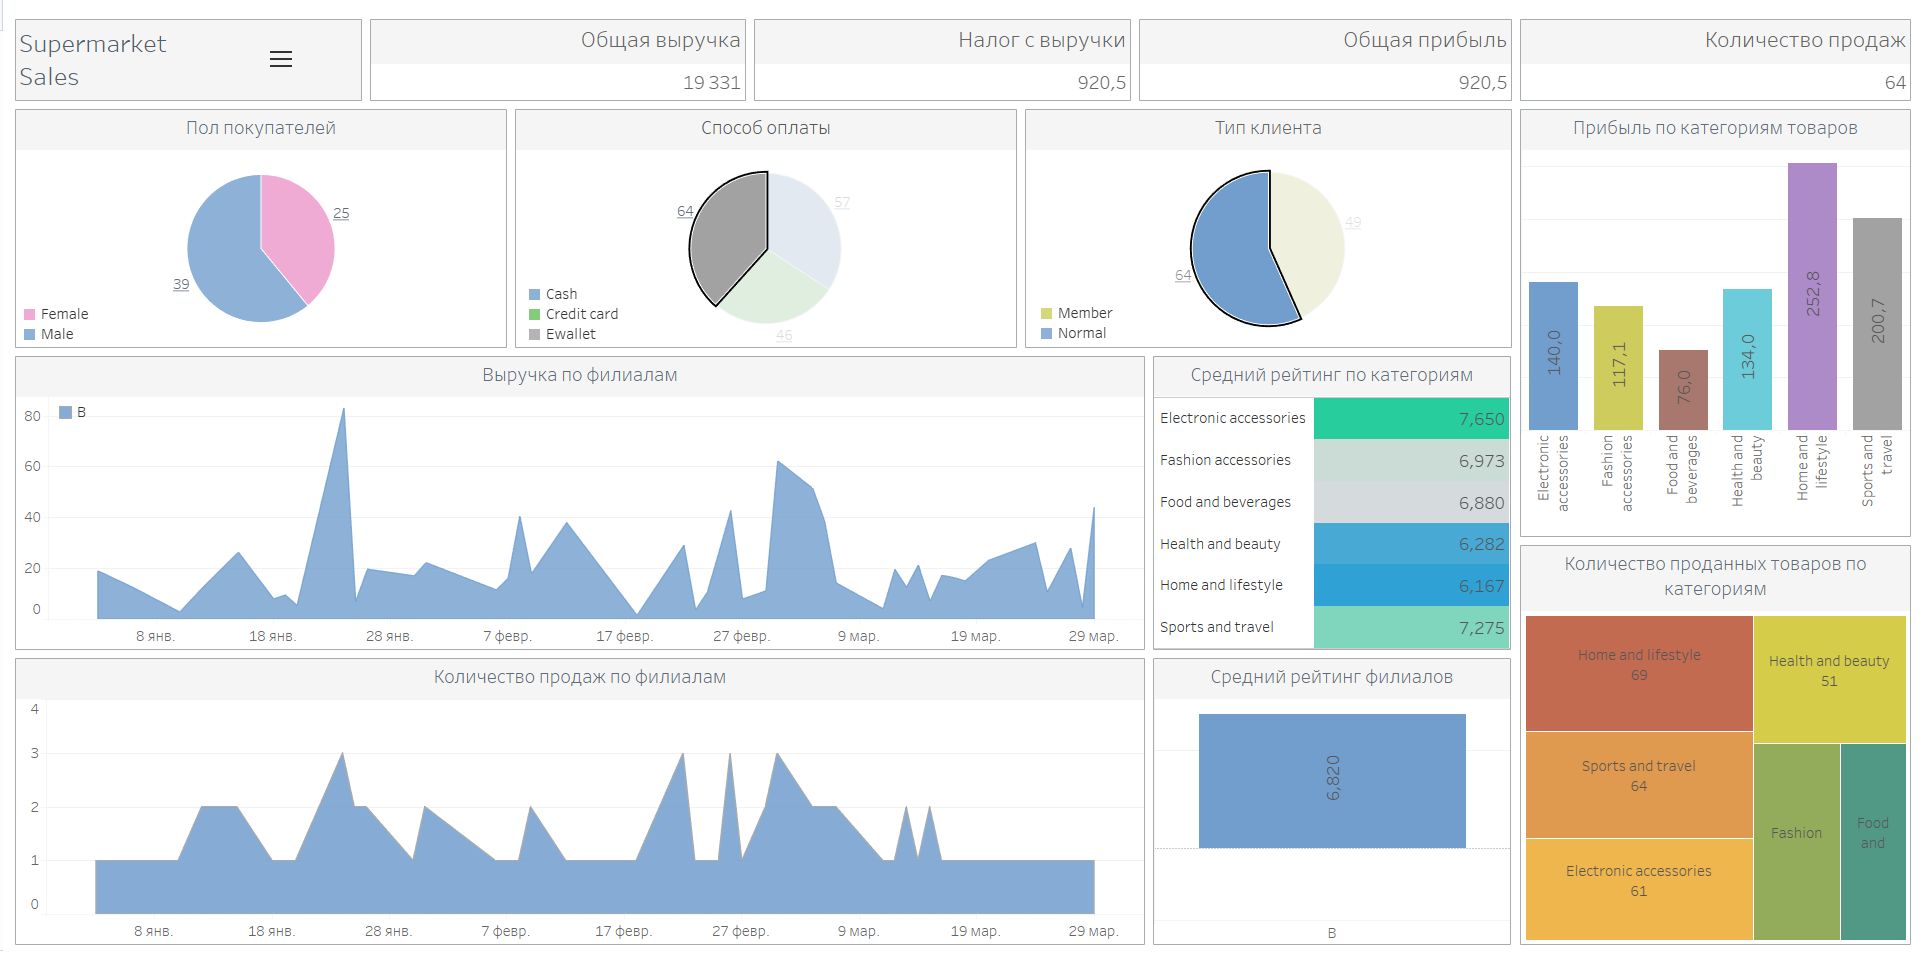

This screenshot's page, from the dashboard's own definition file:
{"tool":"tableau","page":{"name":"Overview","canvas":[1920,950],"ordinal":0},"visuals":[{"type":"text","box":[8,8,354.9,90.2]},{"type":"worksheet","title":"TR","mark":"Automatic","box":[362.9,8,384,90.2]},{"type":"worksheet","title":"TT","mark":"Automatic","box":[746.9,8,385,90.2]},{"type":"worksheet","title":"TP","mark":"Automatic","box":[1131.9,8,381,90.2]},{"type":"worksheet","title":"SC","mark":"Automatic","box":[1512.8,8,399.1,90.2]},{"type":"dashboard-object","box":[264,40,29,24]},{"type":"filter","title":"CQ","param":"[federated.0vq5nop1hpev0k14x6lz30j02jub].[tdy:date:qk]","box":[300,44,223,51]},{"type":"filter","title":"CQ","param":"[federated.0vq5nop1hpev0k14x6lz30j02jub].[none:name (branches):nk]","box":[300,95,223,102]},{"type":"worksheet","title":"G","mark":"Pie","box":[8,98.2,499.8,246.5]},{"type":"worksheet","title":"PM","mark":"Pie","box":[507.8,98.2,510,246.5]},{"type":"worksheet","title":"CT","mark":"Pie","box":[1017.8,98.2,495,246.5]},{"type":"worksheet","title":"CP","mark":"Automatic","rows":["gross_income"],"cols":["name (product_lines)"],"box":[1512.8,98.2,399.1,435.7]},{"type":"legend","title":"PM","param":"[federated.0vq5nop1hpev0k14x6lz30j02jub].[none:name (payment_methods):nk]","box":[521,277,127,62]},{"type":"legend","title":"CT","param":"[federated.0vq5nop1hpev0k14x6lz30j02jub].[none:name (customer_types):nk]","box":[1033,296,119,42]},{"type":"legend","title":"G","param":"[federated.0vq5nop1hpev0k14x6lz30j02jub].[none:gender:nk]","box":[16,297,88,42]},{"type":"worksheet","title":"BP","mark":"Area","rows":["gross_income"],"cols":["date"],"box":[8,344.7,1138.4,302.3]},{"type":"worksheet","title":"CR","mark":"Square","rows":["name (product_lines)"],"box":[1146.4,344.7,366.5,302.3]},{"type":"legend","title":"BSC","param":"[federated.0vq5nop1hpev0k14x6lz30j02jub].[none:name (branches):nk]","box":[52,395,40,62]},{"type":"worksheet","title":"CQ","mark":"Automatic","box":[1512.8,533.9,399.1,408.1]},{"type":"worksheet","title":"BSC","mark":"Area","rows":["id"],"cols":["date"],"box":[8,647,1138.4,295]},{"type":"worksheet","title":"BR","mark":"Automatic","rows":["rating"],"cols":["name (branches)"],"box":[1146.4,647,366.5,295]}]}

Visuals, with their boxes in screenshot pixels (x1, y1, x2, y2), scaled from the page's 1920x950 canvas onto the 1922x961 screenshot:
text: BBox(8, 8, 363, 99)
"TR" worksheet: BBox(363, 8, 748, 99)
"TT" worksheet: BBox(748, 8, 1133, 99)
"TP" worksheet: BBox(1133, 8, 1514, 99)
"SC" worksheet: BBox(1514, 8, 1914, 99)
dashboard-object: BBox(264, 40, 293, 65)
"CQ" filter: BBox(300, 45, 524, 96)
"CQ" filter: BBox(300, 96, 524, 199)
"G" worksheet (Pie marks): BBox(8, 99, 508, 349)
"PM" worksheet (Pie marks): BBox(508, 99, 1019, 349)
"CT" worksheet (Pie marks): BBox(1019, 99, 1514, 349)
"CP" worksheet: BBox(1514, 99, 1914, 540)
"PM" legend: BBox(522, 280, 649, 343)
"CT" legend: BBox(1034, 299, 1153, 342)
"G" legend: BBox(16, 300, 104, 343)
"BP" worksheet (Area marks): BBox(8, 349, 1148, 654)
"CR" worksheet (Square marks): BBox(1148, 349, 1514, 654)
"BSC" legend: BBox(52, 400, 92, 462)
"CQ" worksheet: BBox(1514, 540, 1914, 953)
"BSC" worksheet (Area marks): BBox(8, 654, 1148, 953)
"BR" worksheet: BBox(1148, 654, 1514, 953)
